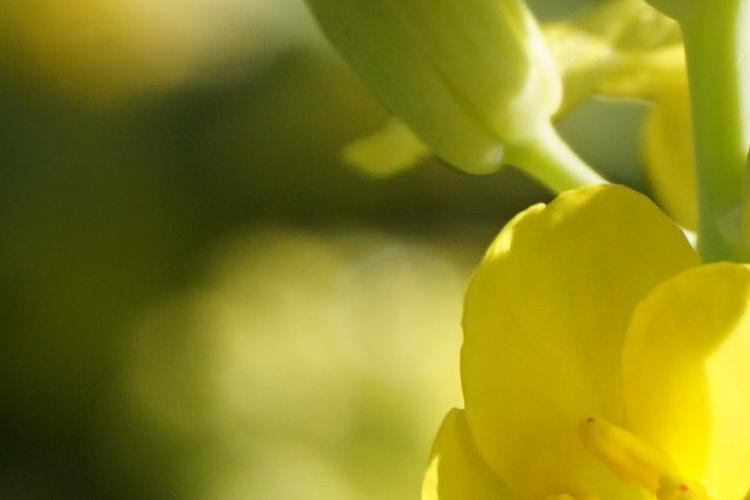bud: (303, 3, 572, 175)
yellow: (434, 202, 750, 499)
